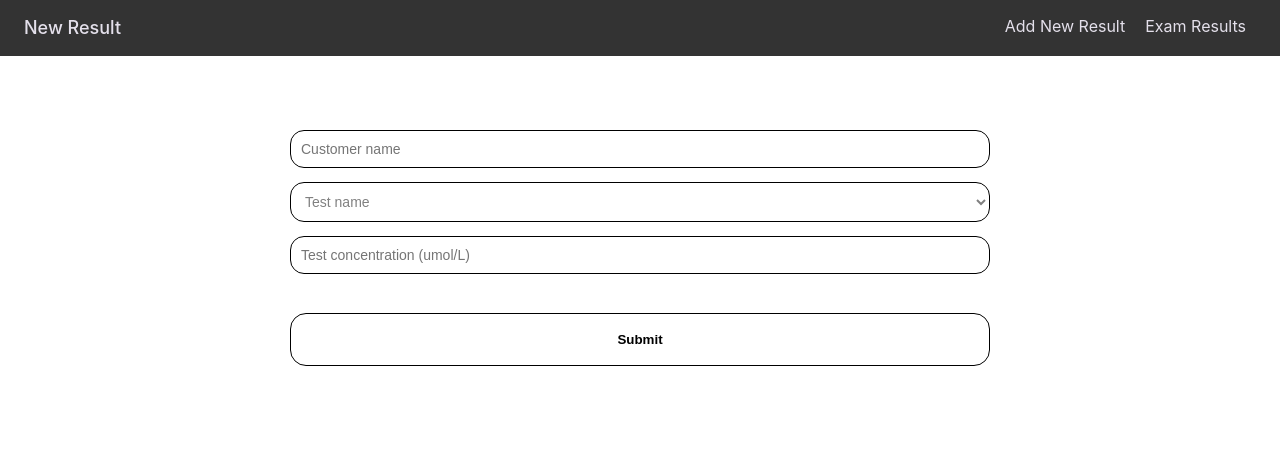
Test: <Add New Result> › should show errors on submit
This screenshot has width=1280, height=464.
// Click submit button
Click the button with test id "submit-exam-button" at (640, 340), box left=290, top=313, right=990, bottom=366
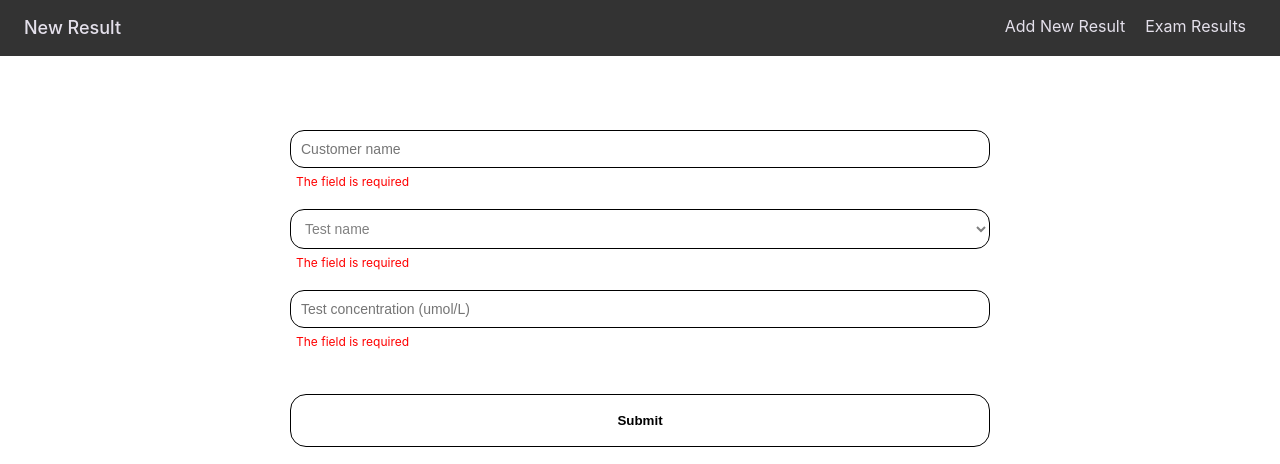
Expected: the text "The field is required" is shown 3 times, left=296, top=174, right=409, bottom=189; left=296, top=255, right=409, bottom=270; left=296, top=334, right=409, bottom=349
